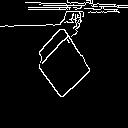cube: (32, 25, 94, 100)
